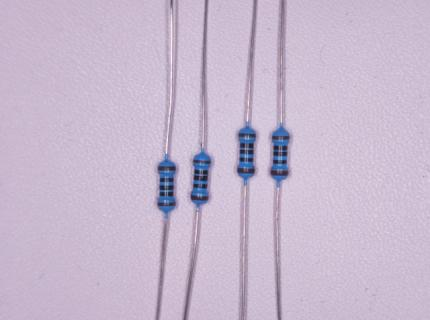Black band: (194, 175, 208, 181), (160, 184, 174, 190), (160, 191, 173, 197), (239, 157, 254, 162), (273, 159, 287, 164), (240, 149, 254, 154), (240, 143, 254, 148), (160, 177, 174, 182), (274, 146, 288, 150), (274, 152, 288, 156), (193, 184, 207, 188), (195, 170, 208, 174)
Brown band: (271, 169, 288, 176), (190, 194, 208, 200), (158, 166, 176, 171), (158, 202, 176, 207), (193, 159, 211, 164), (237, 168, 255, 173), (272, 135, 290, 140), (238, 133, 255, 137)
